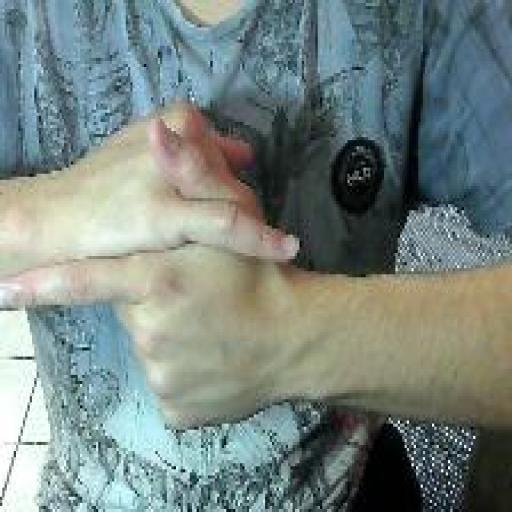U -hare-: (0, 96, 302, 437)
